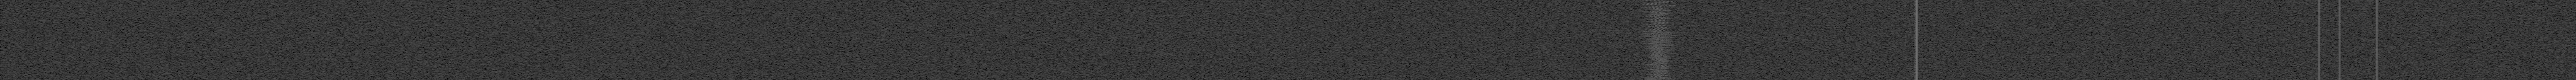wv_am: (2338, 0, 2341, 80)
wv_cw: (2318, 0, 2321, 80), (2376, 0, 2379, 80), (1916, 0, 1919, 80)
wv_lsb: (1914, 0, 1917, 62), (1904, 31, 1907, 56), (1914, 62, 1917, 80), (1904, 10, 1907, 20), (1904, 3, 1907, 8), (1904, 0, 1907, 3), (1904, 60, 1906, 67), (1904, 67, 1906, 72), (1904, 24, 1906, 29), (1904, 75, 1906, 78), (1904, 21, 1906, 23), (1904, 56, 1906, 57)
wv_wbfm: (1636, 0, 1679, 80)
